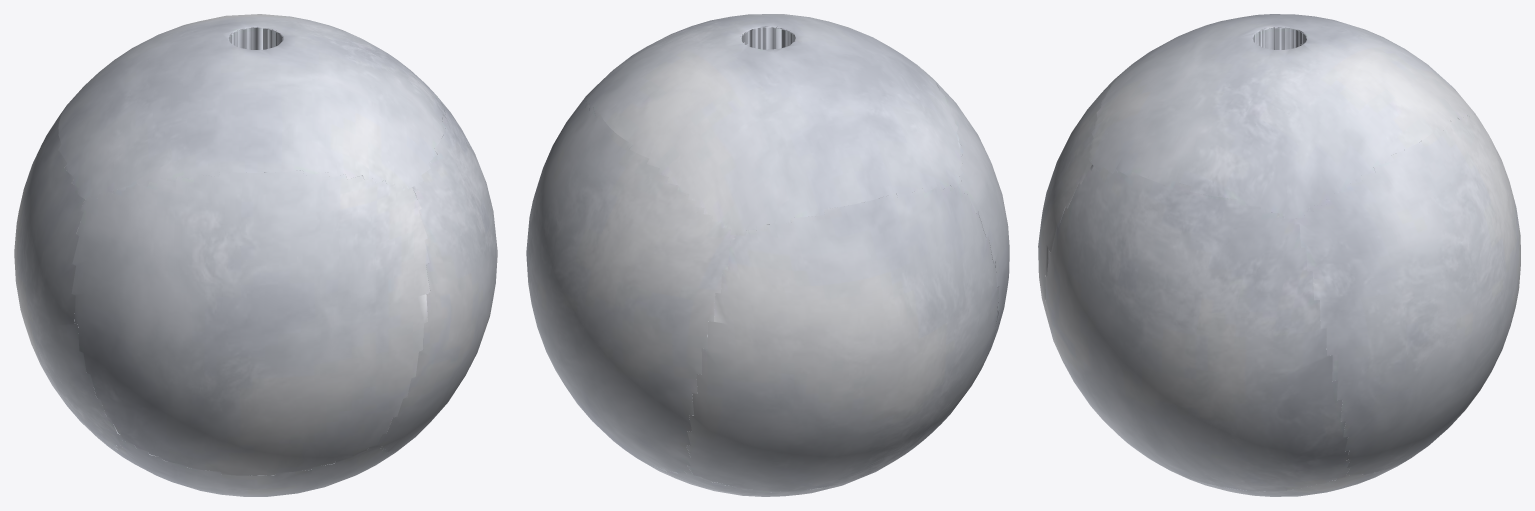
Rendered from stone-moonstone.glb.
The picture shows the model from 3 angles, left to right: view 1: azimuth 30°, elevation 25°; view 2: azimuth 150°, elevation 25°; view 3: azimuth 270°, elevation 25°; orthographic projection.
Parts seen in each view (by area): view 1: Bead_hi; view 2: Bead_hi; view 3: Bead_hi.
Boxes of the visible parts, x1=… form: Bead_hi: x1=14, y1=14, x2=497, y2=496; Bead_hi: x1=526, y1=14, x2=1009, y2=496; Bead_hi: x1=1038, y1=14, x2=1520, y2=496.
Bounding box in the file's own units: 1 × 0.9939 × 0.9996.
1 material, 1 textured.
